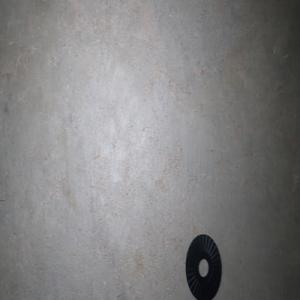Washer: (185, 234, 221, 300)
